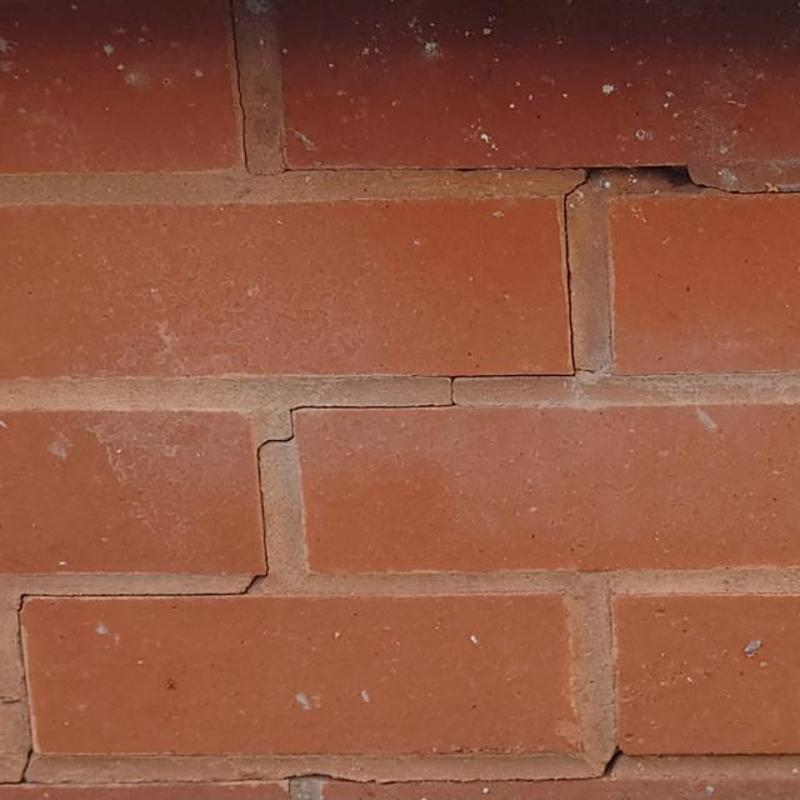pothole: (14, 374, 571, 748), (230, 0, 584, 176), (561, 166, 799, 377), (276, 742, 633, 799), (0, 747, 58, 785), (60, 776, 275, 785), (632, 752, 799, 758)
